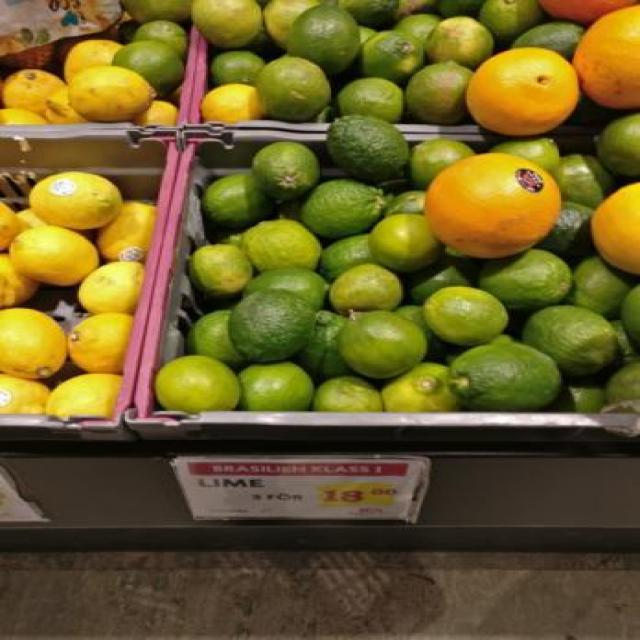Orange: (423, 150, 563, 262), (454, 39, 580, 139)
